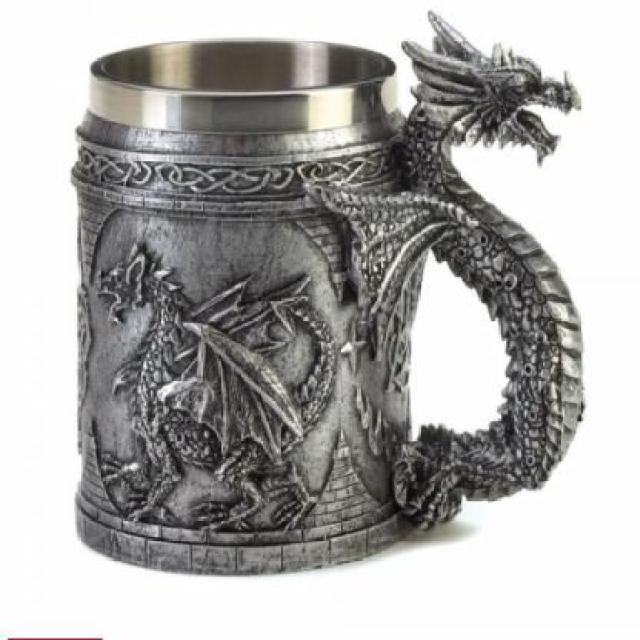cup: (56, 22, 606, 584)
